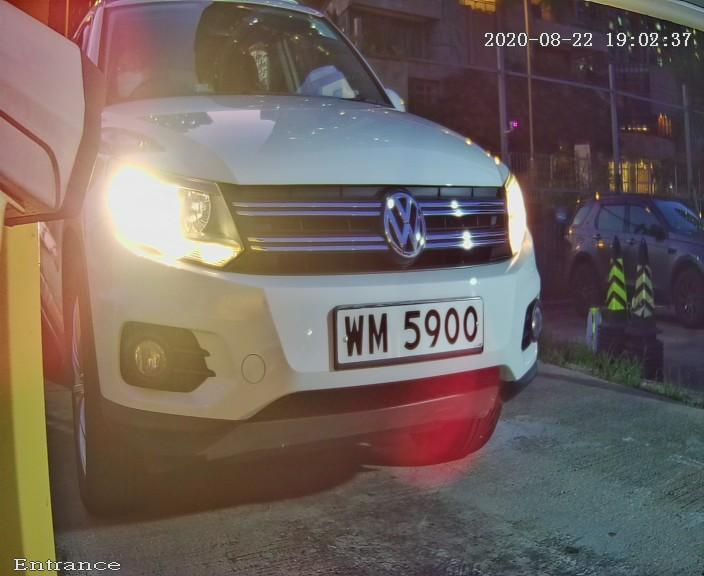Car: (1, 3, 629, 520)
License Plate: (305, 289, 491, 379)
